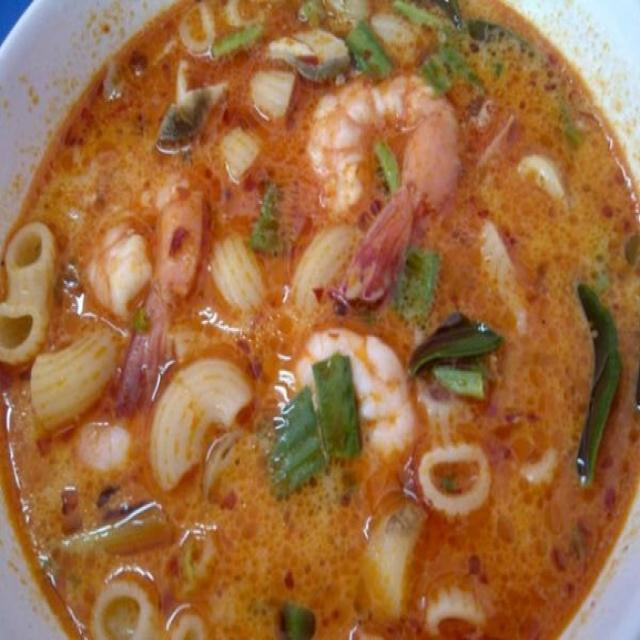汤锅炖物: (23, 21, 626, 625)
